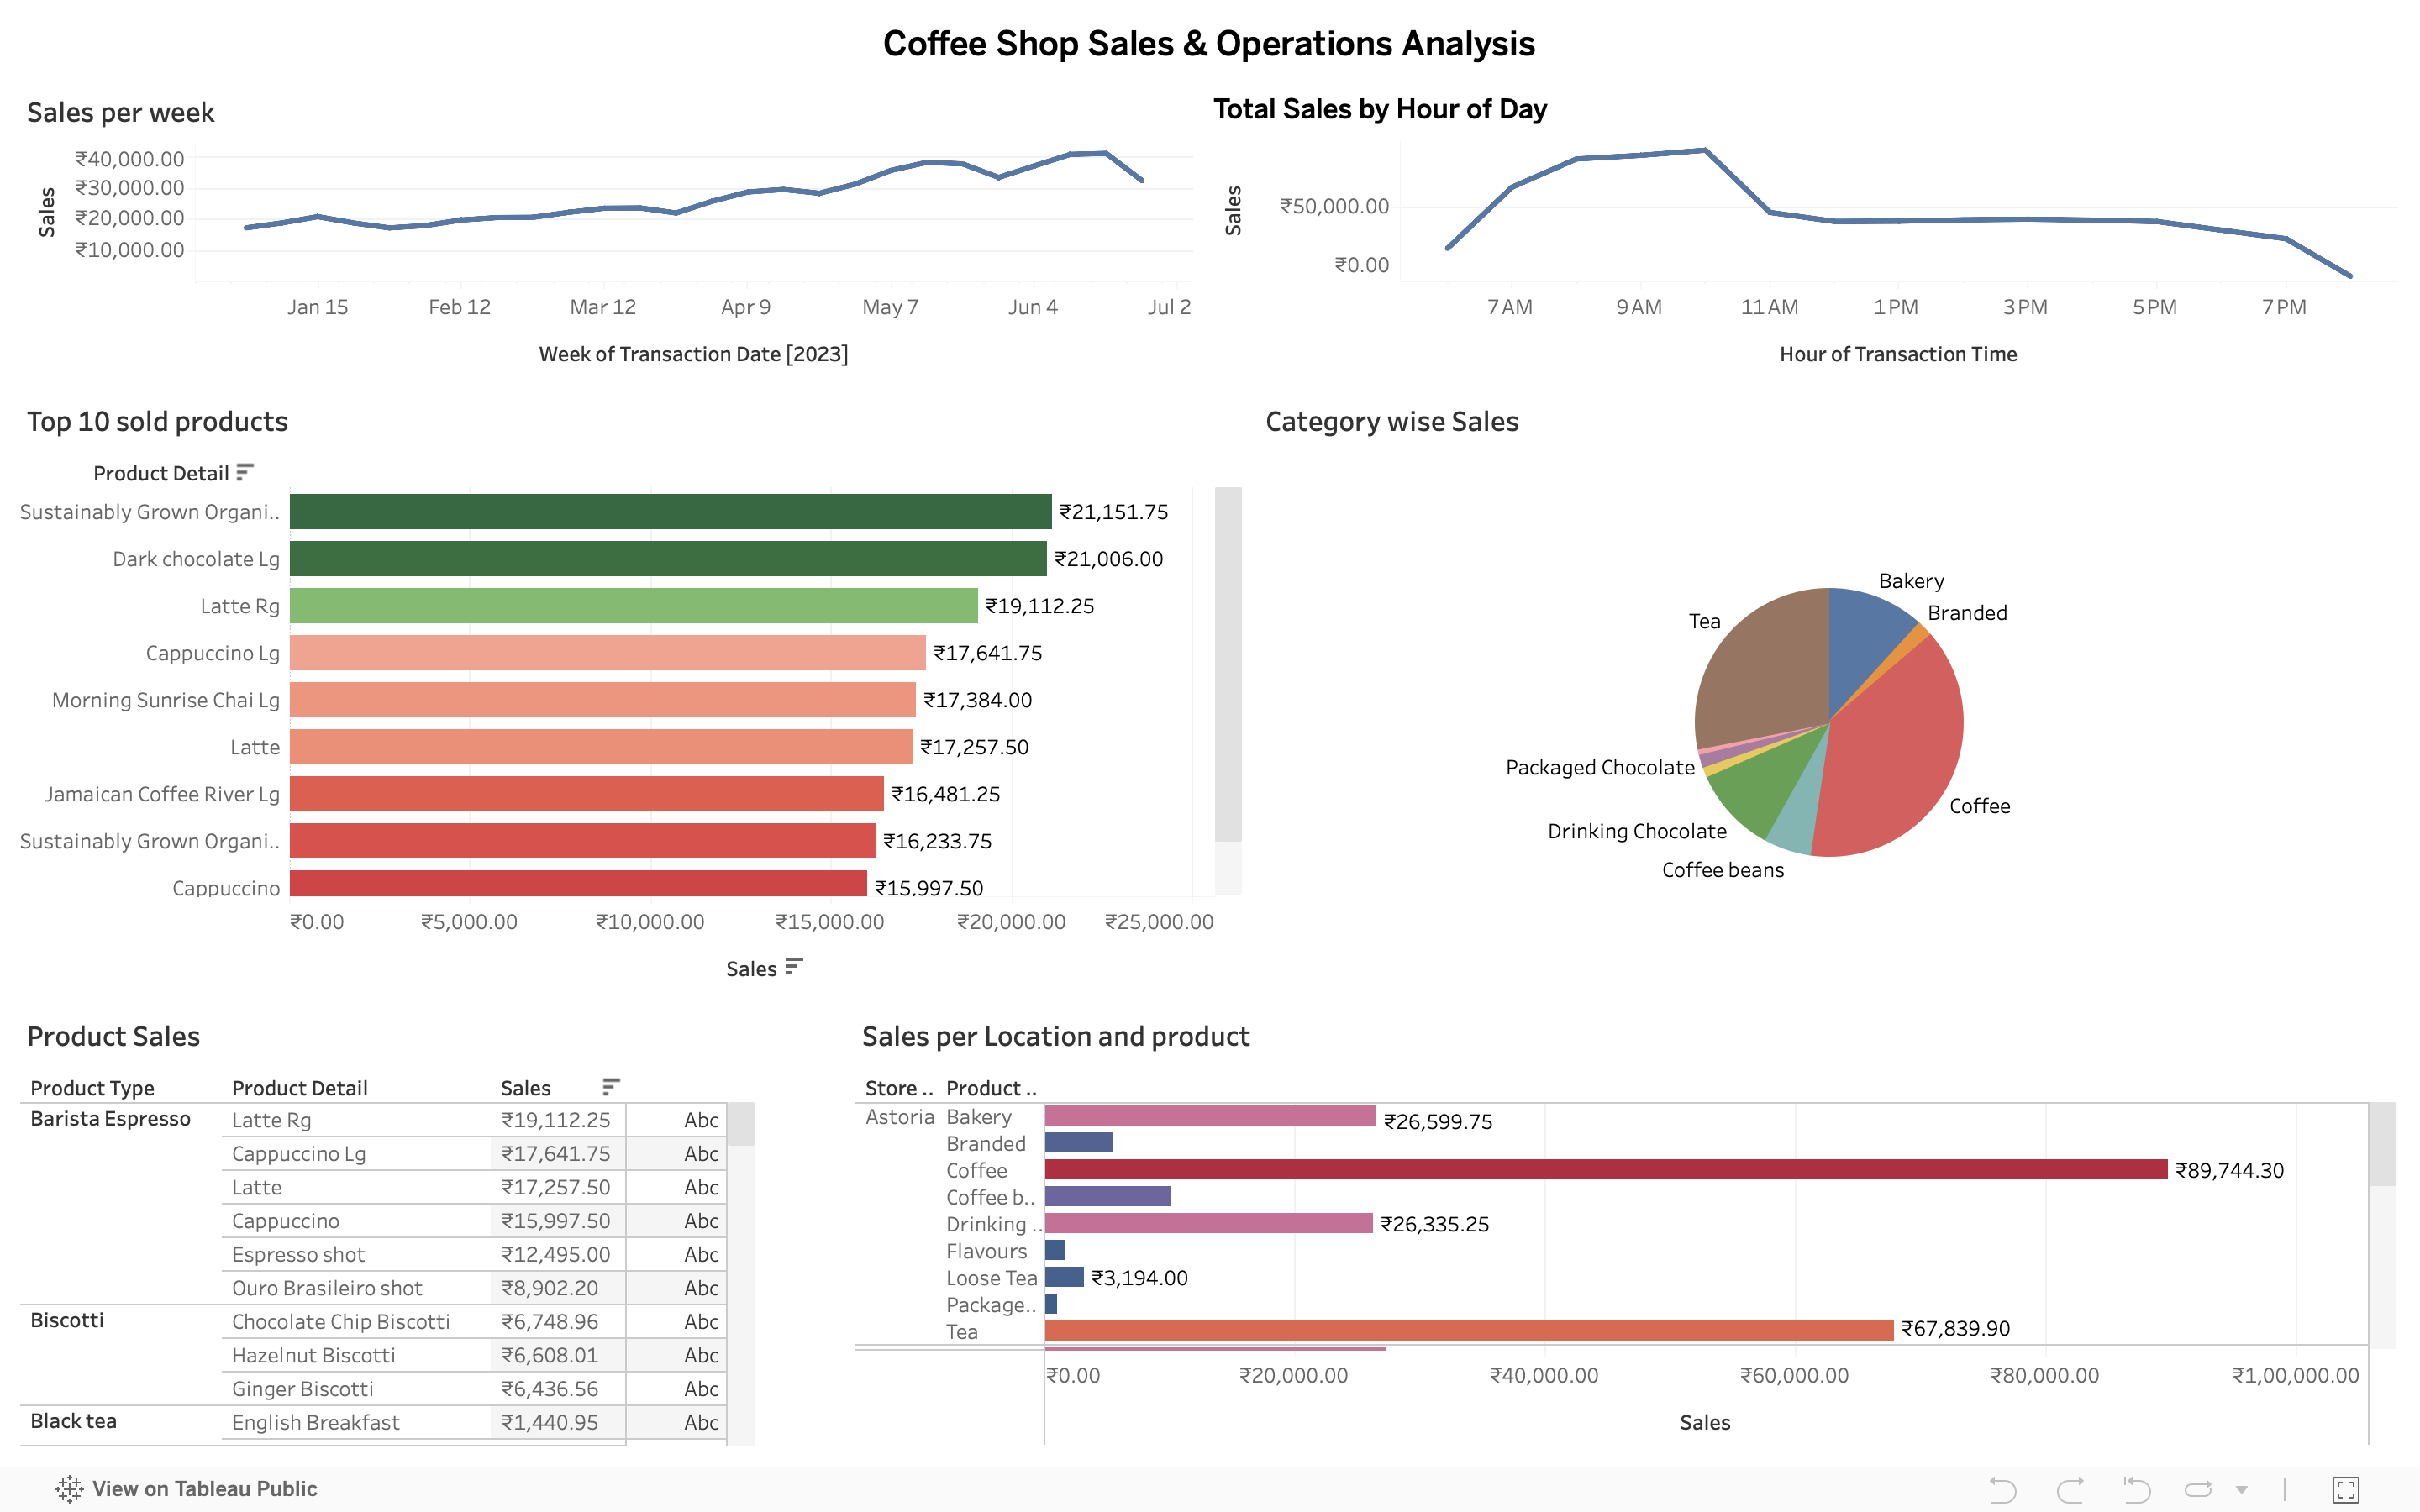

This screenshot's page, from the dashboard's own definition file:
{"tool":"tableau","page":{"name":"Dashboard 1","canvas":[1000,1000],"units":"permille","ordinal":0},"visuals":[{"type":"text","box":[6.5,10.4,987,41.6]},{"type":"worksheet","title":"LineChart(sales)","mark":"Automatic","rows":["Calculation_2291980411344441344"],"cols":["transaction_date"],"box":[6.5,52.1,489,239.6]},{"type":"worksheet","title":"Sales/hr","mark":"Automatic","rows":["Calculation_2291980411344441344"],"cols":["transaction_time"],"box":[495.5,52.1,498,239.6]},{"type":"worksheet","title":"TOP 10","mark":"Automatic","rows":["product_detail"],"cols":["Calculation_2291980411344441344"],"box":[6.5,291.7,550.9,345.1]},{"type":"worksheet","title":"Sales/Category","mark":"Pie","box":[557.4,291.7,436.1,345.1]},{"type":"worksheet","title":"Sales per product types","mark":"Automatic","rows":["product_type","product_detail","Calculation_2291980411344441344"],"box":[6.5,636.7,404.4,352.9]},{"type":"worksheet","title":"Sales/locxn,prodct","mark":"Automatic","rows":["store_location","product_category"],"cols":["Calculation_2291980411344441344"],"box":[410.9,636.7,582.6,352.9]}]}

Visuals, with their boxes on the dashboard's canvas, which has no fixed pixel size, in thousandths of its width and height (x1, y1, x2, y2). These are canvas units, not pixel positions in the 2420x1512 screenshot, which may show the page scaled, cropped or inside an application window:
text: (6,10,994,52)
"LineChart(sales)" worksheet: (6,52,496,292)
"Sales/hr" worksheet: (496,52,994,292)
"TOP 10" worksheet: (6,292,557,637)
"Sales/Category" worksheet (Pie marks): (557,292,994,637)
"Sales per product types" worksheet: (6,637,411,990)
"Sales/locxn,prodct" worksheet: (411,637,994,990)
